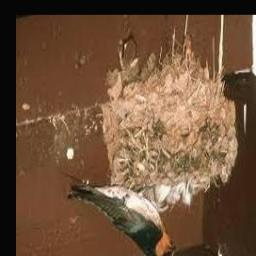Swallow: (68, 183, 176, 256)
